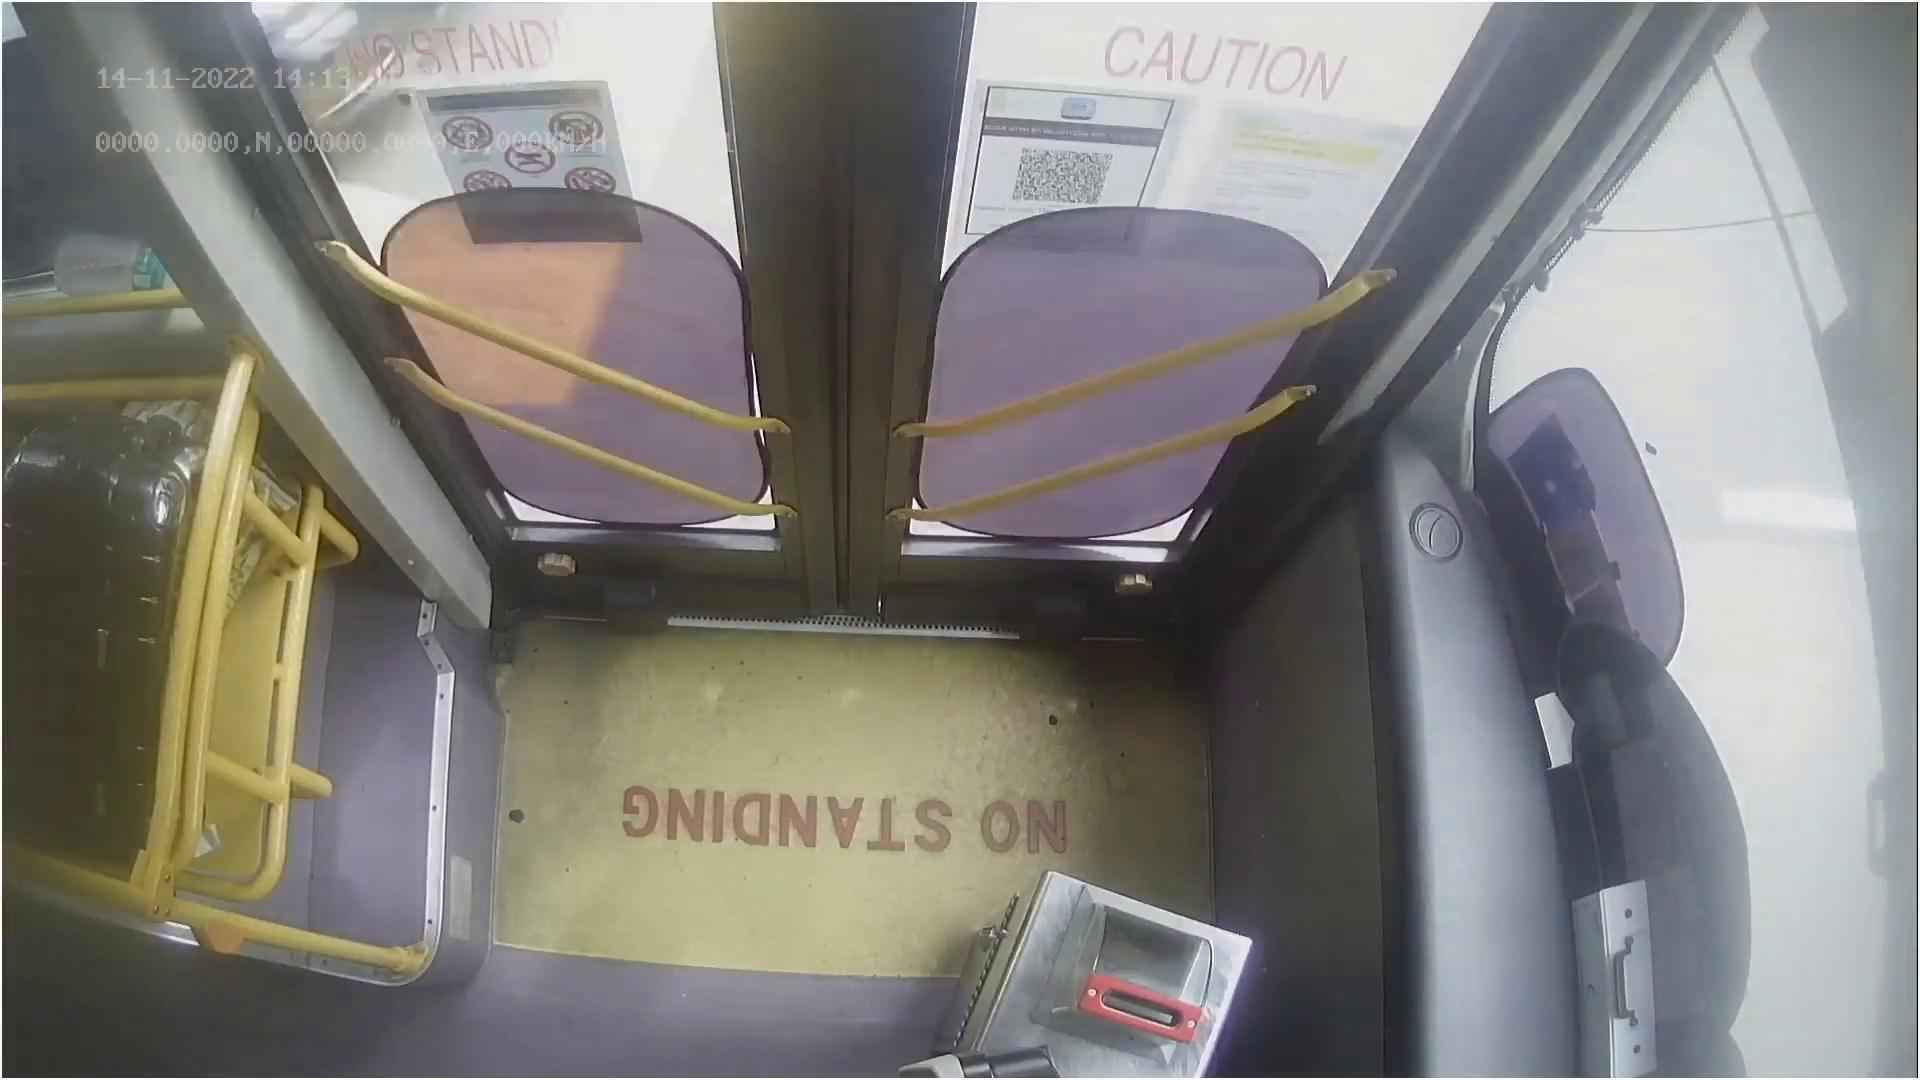close: (285, 0, 1432, 166)
